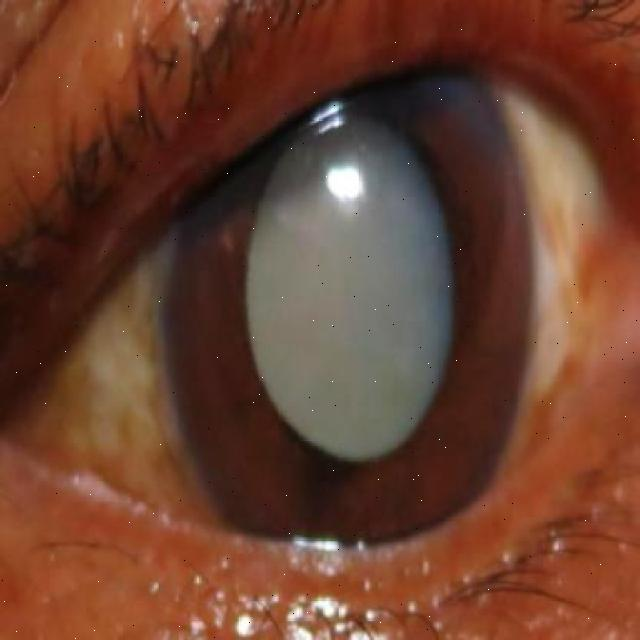Cataract: (168, 39, 536, 560)
